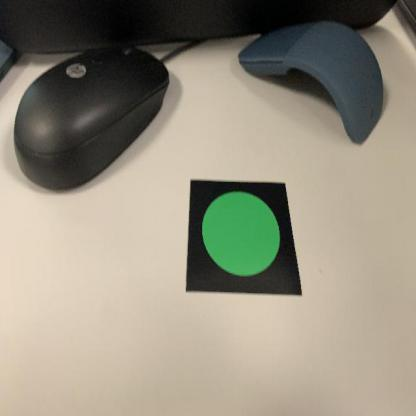go: (186, 177, 304, 302)
